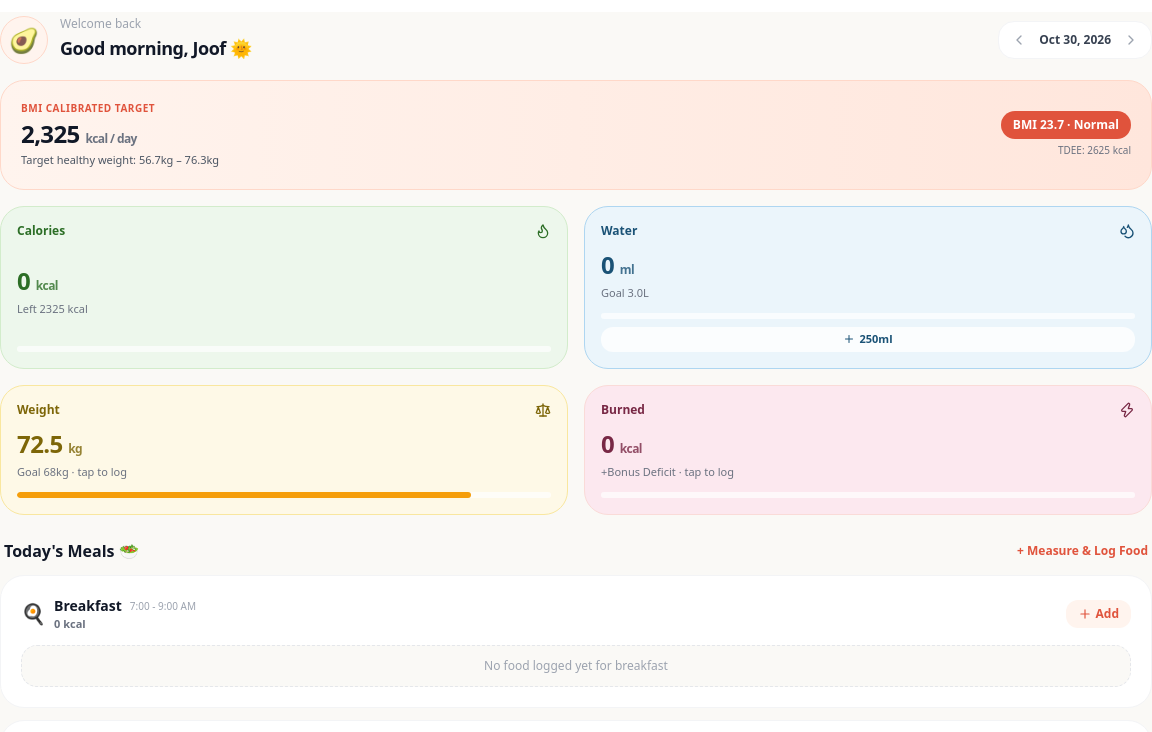
Scenario: Dashboard Component › increments water intake on +250ml button click
This screenshot has width=1152, height=732.
Click the button with aria-label "Add 250ml water" at (868, 339), box [601,327,1135,352]
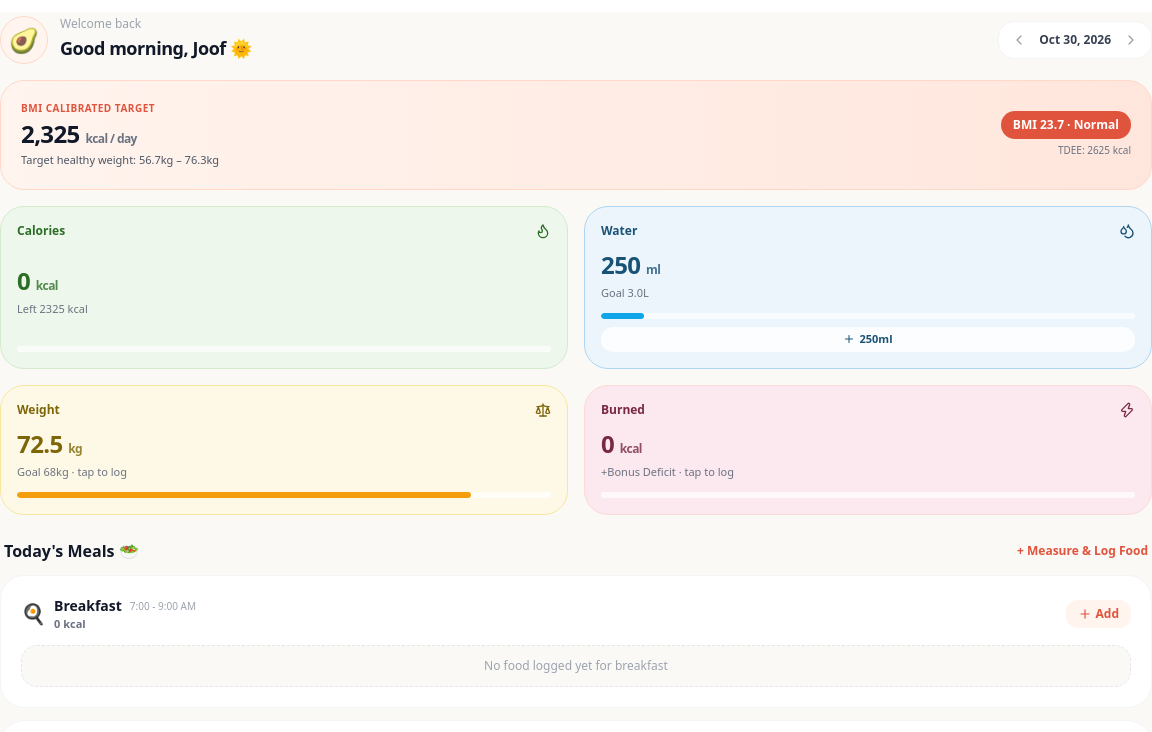
Expected: the text "250" is shown, [601,248,640,280]
